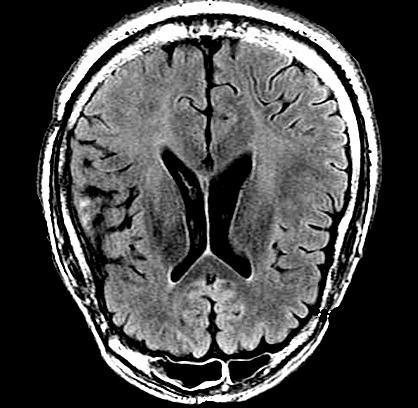Normal_Brain: (62, 17, 418, 407)
